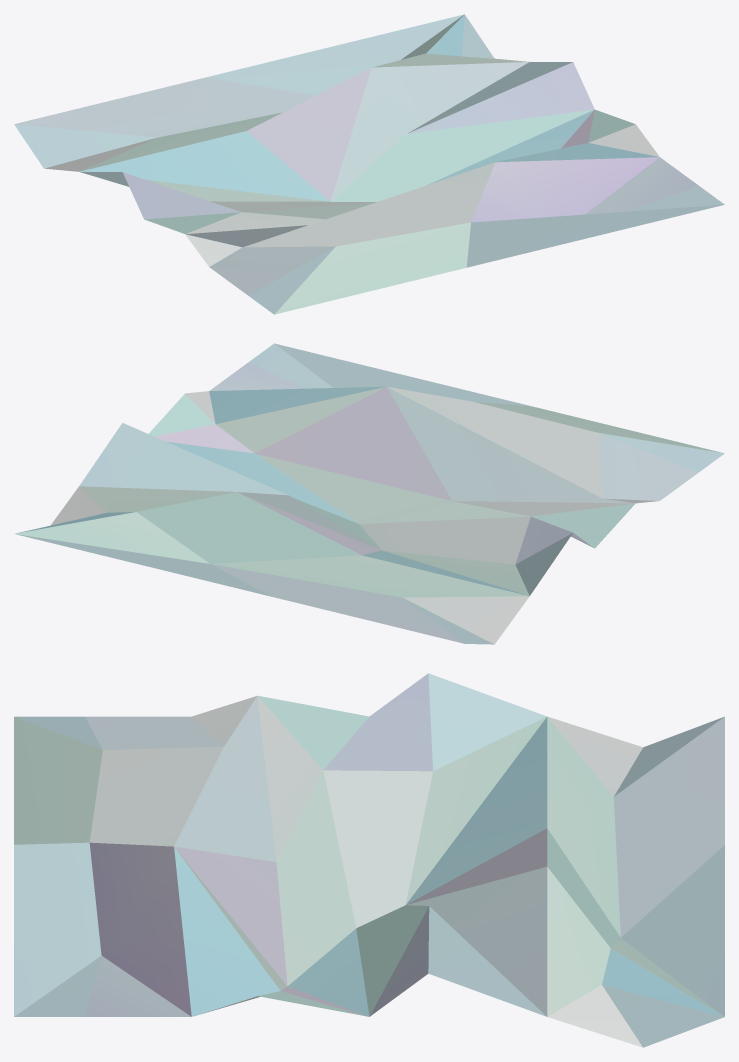
File: sm_ground_ice_2.fbx
The picture shows the model from 3 angles, top to bottom: view 1: azimuth 30°, elevation 25°; view 2: azimuth 150°, elevation 25°; view 3: azimuth 270°, elevation 25°; orthographic projection. The views are drawn at different scales.
Parts seen in each view (by area): view 1: sm_ground_ice_2; view 2: sm_ground_ice_2; view 3: sm_ground_ice_2.
Boxes of the visible parts, bbox=[...] form: sm_ground_ice_2: bbox=[14, 14, 724, 314]; sm_ground_ice_2: bbox=[14, 343, 724, 644]; sm_ground_ice_2: bbox=[14, 673, 724, 1047].
Size of the model in its own units: 34.79 by 200 by 200.
